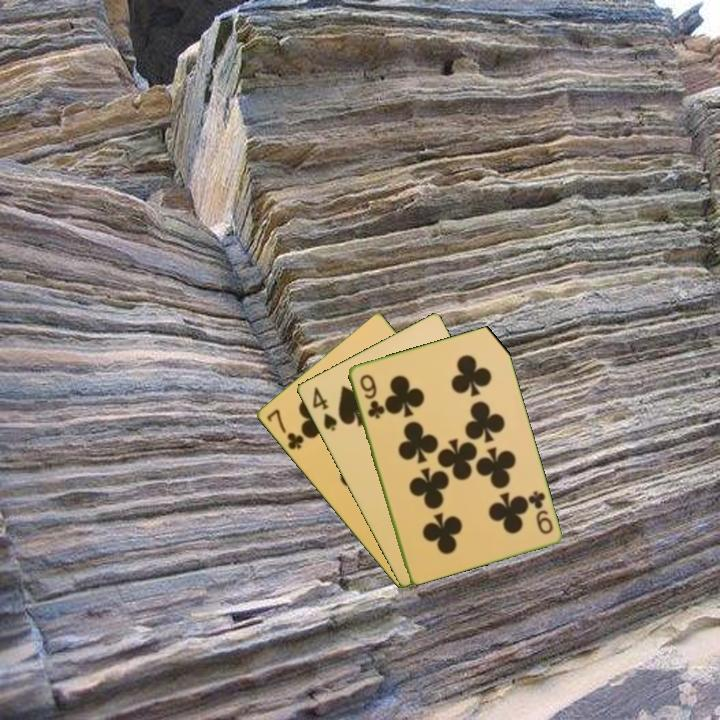4s: (308, 383, 340, 434)
7c: (263, 405, 307, 453)
9c: (524, 487, 556, 537), (356, 370, 385, 421)
